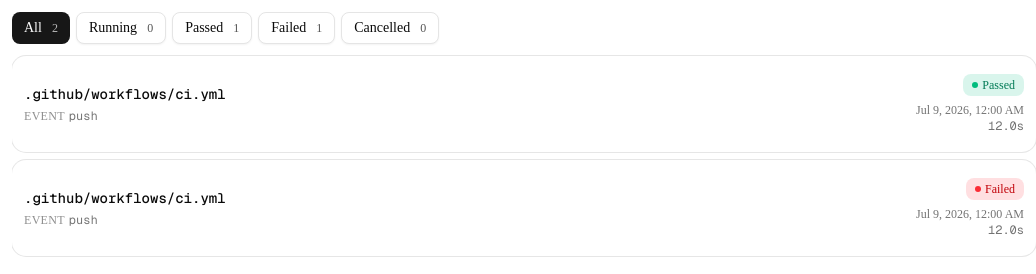
Test: RunHistoryList › filters runs by status
expect the link with test id "run-item-run-1" is shown: met, box [12,56,1035,152]
expect the link with test id "run-item-run-2" is shown: met, box [12,160,1035,256]
Click the button with test id "filter-failed". click: (297, 28)
box: [258,12,335,44]
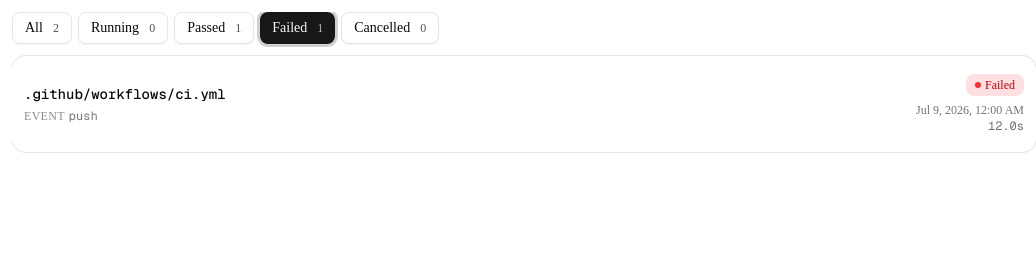
expect the link with test id "run-item-run-2" is shown: met, box [12,56,1035,152]
expect the link with test id "run-item-run-1" is gone: met
